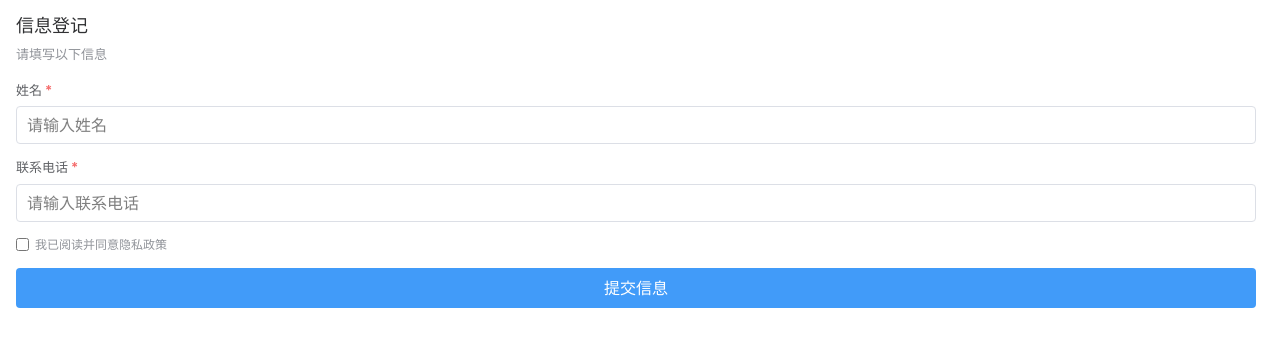
it: BusinessFormBlock 真实提交链路 › 2. 手机号格式错误时不能提交
Type "张三" into the field with class "field-control" showing "姓名*" at [636, 125], box [16,106,1256,144]
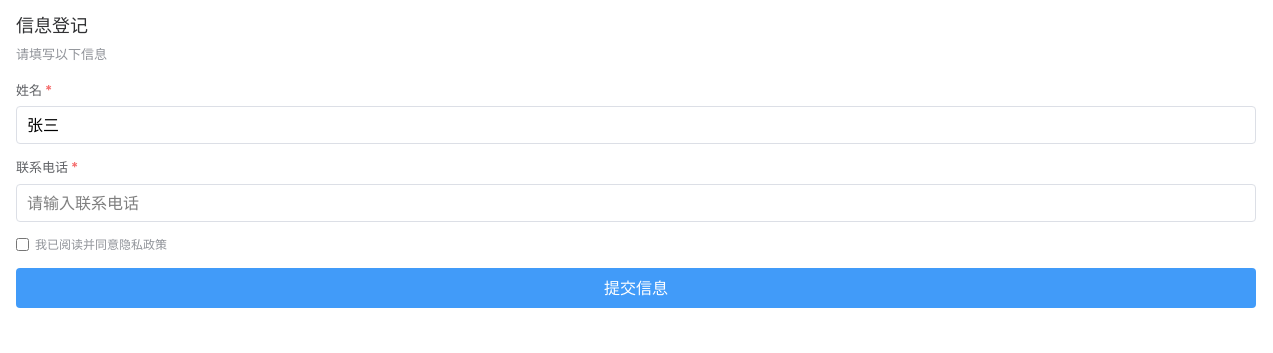
Type "12345" into the field with class "field-control" showing "联系电话*" at [636, 202], box [16,184,1256,222]
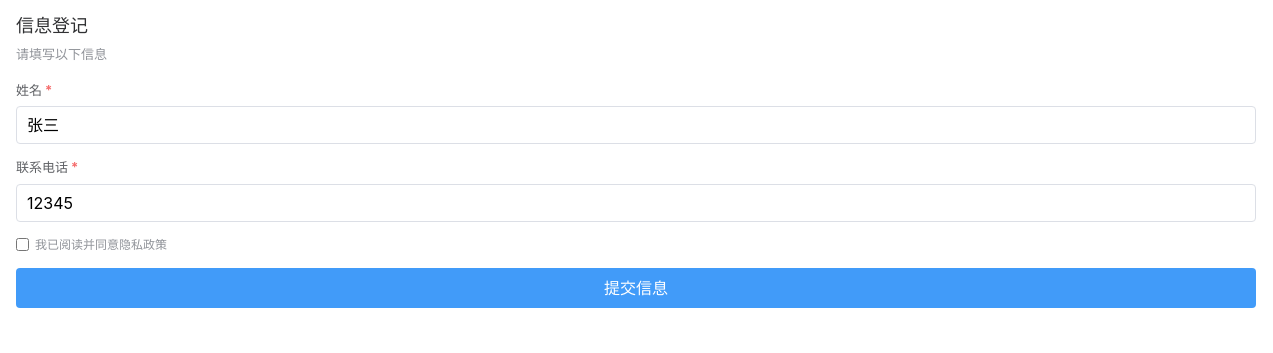
Submit the form
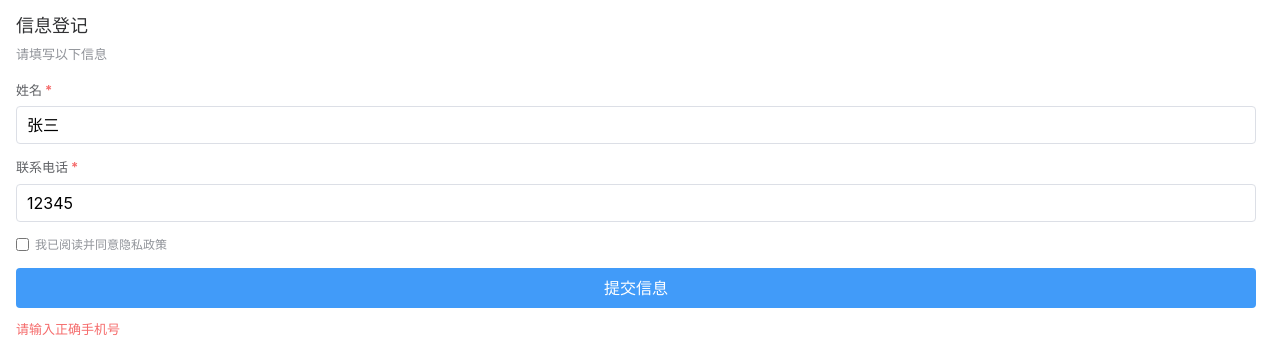
Result: the text "请输入正确手机号" is shown at [16,320,120,336]
